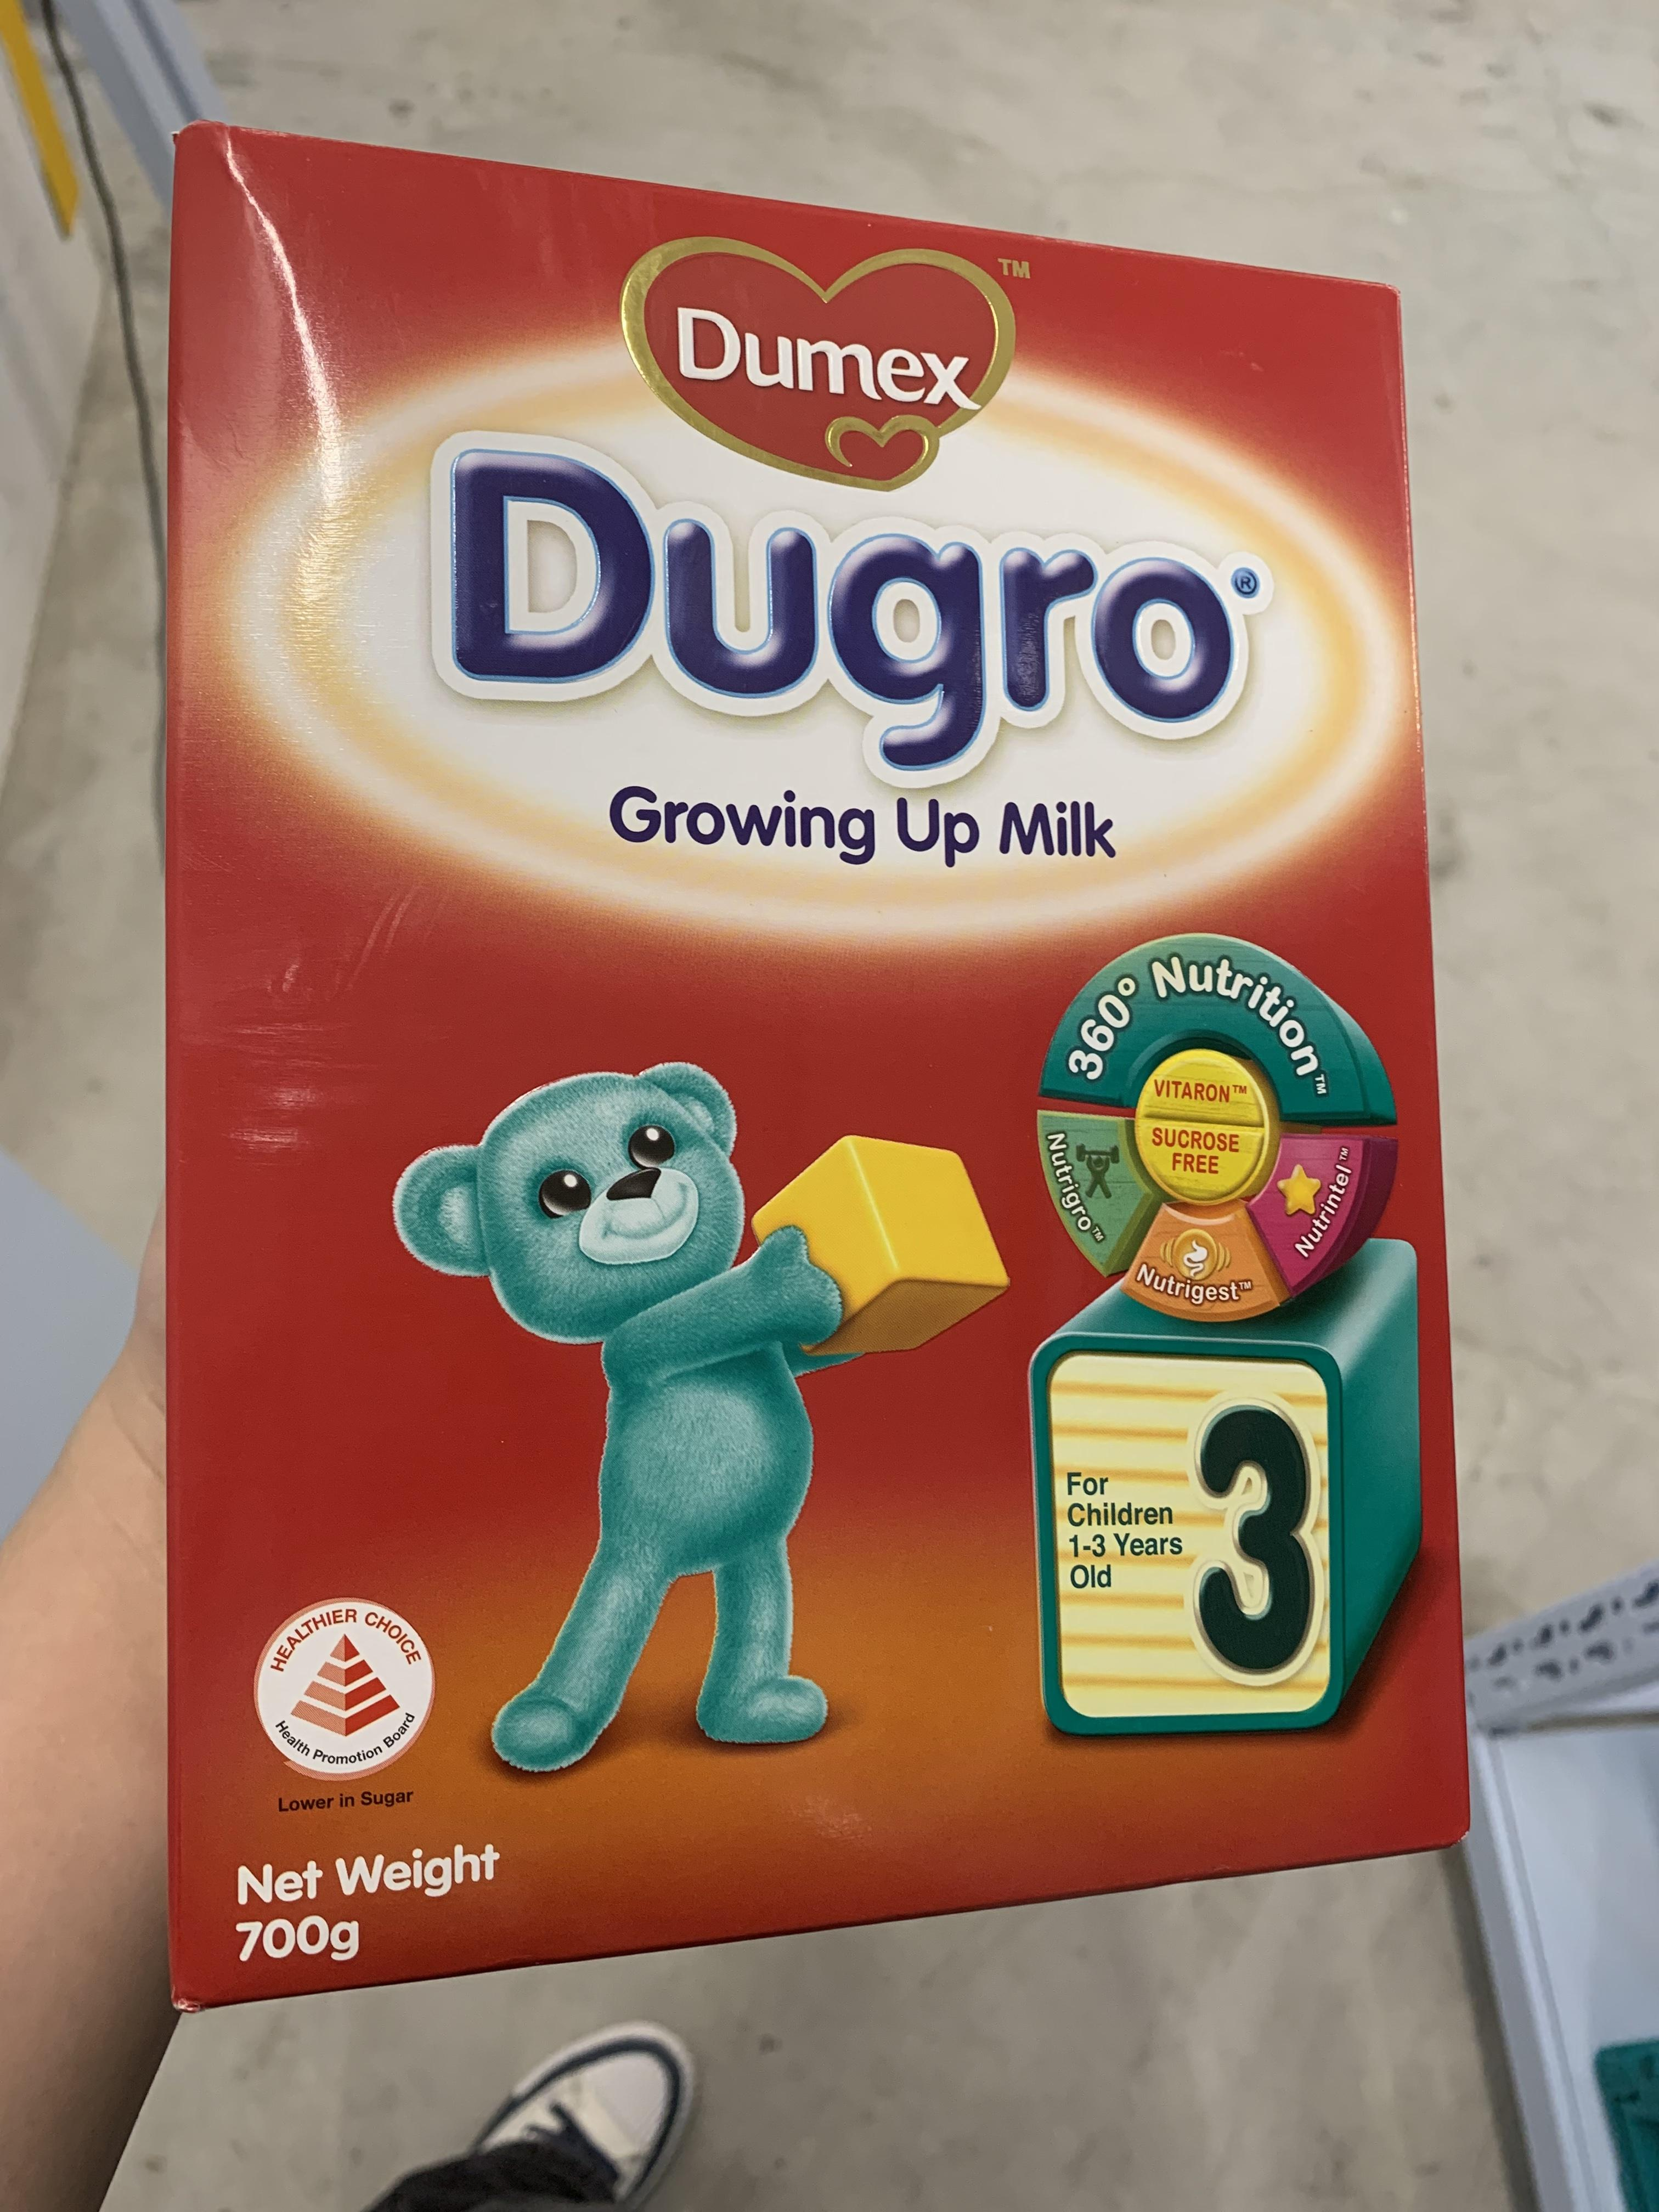object_name: (214, 158, 1399, 1973)
